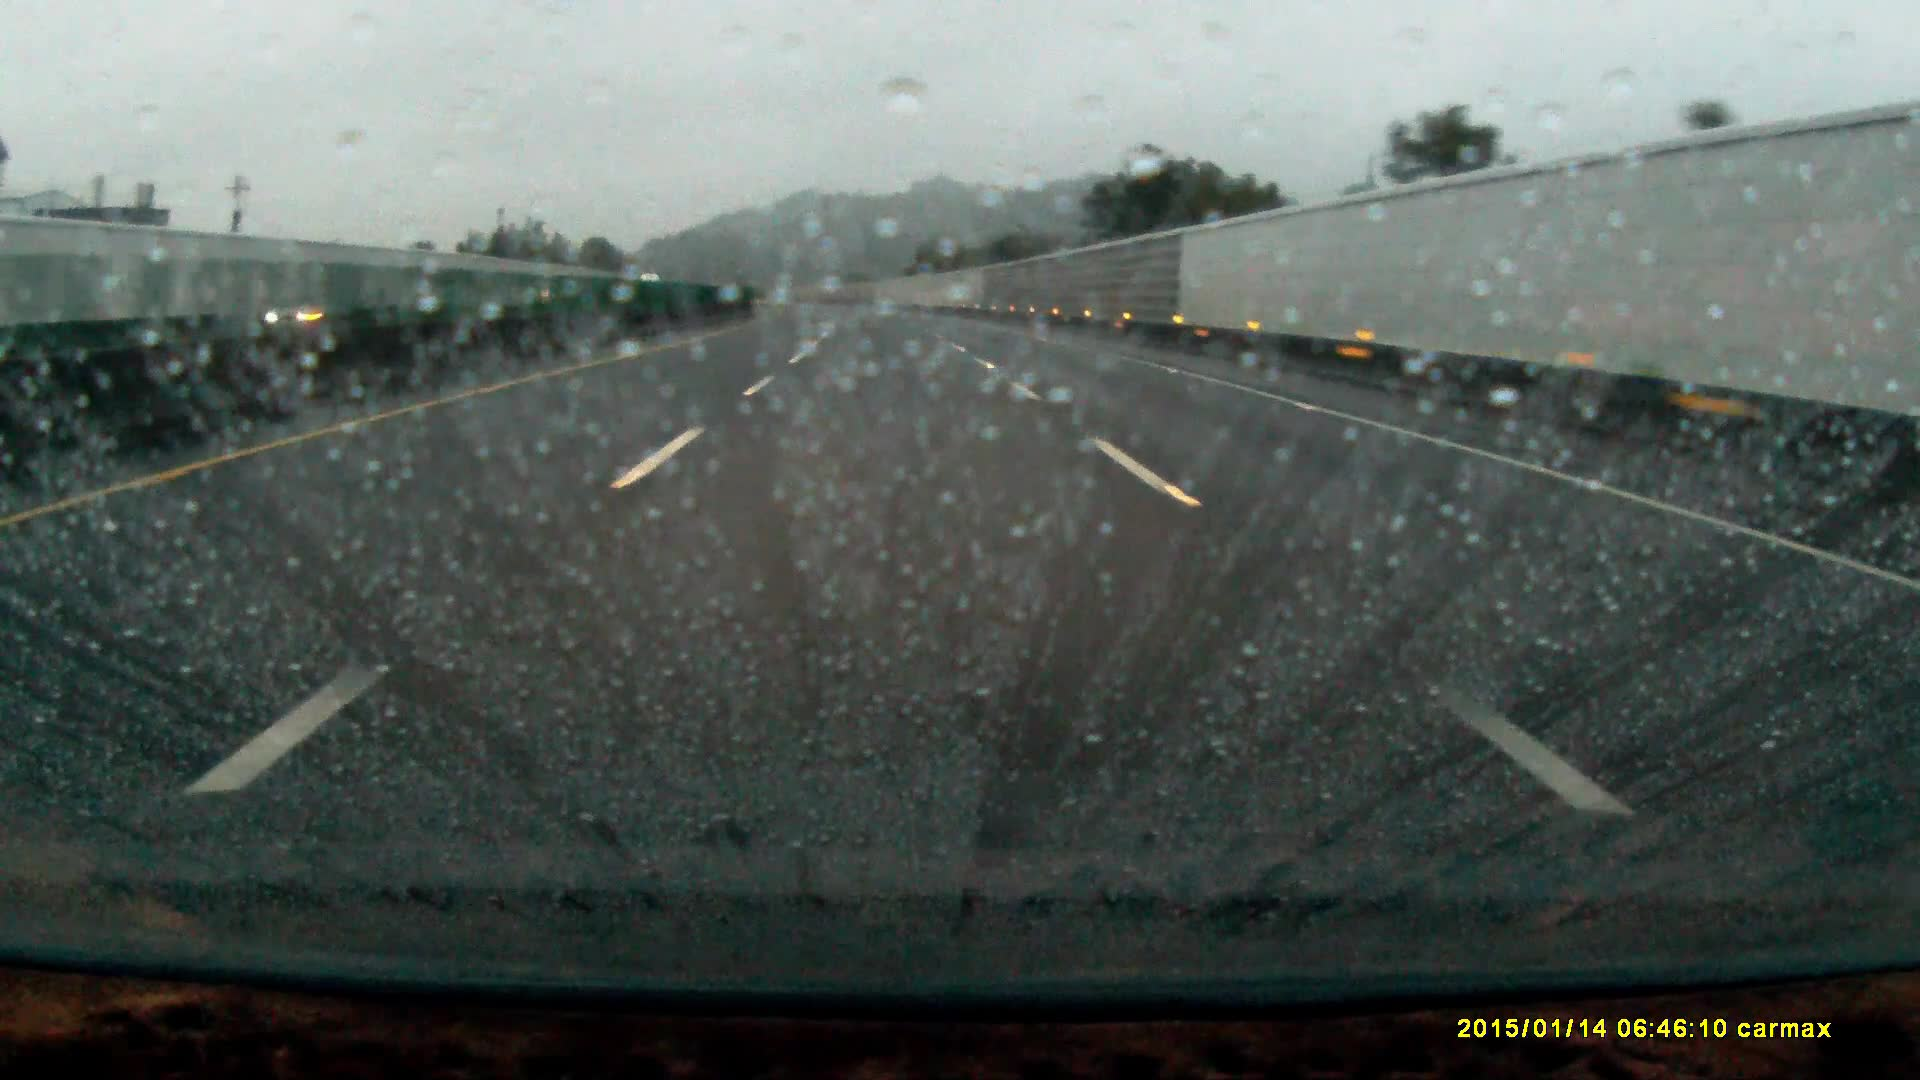vehicle: (262, 293, 338, 328)
